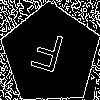F: (25, 30, 66, 82)
